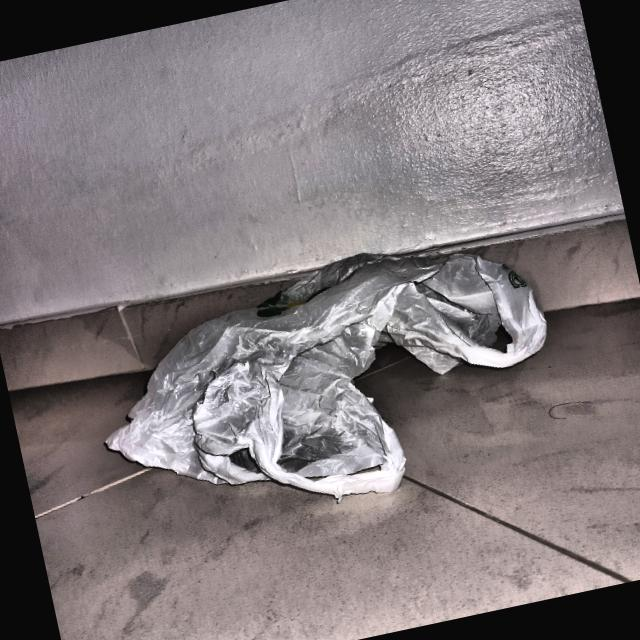plastic bag: (70, 216, 575, 550)
